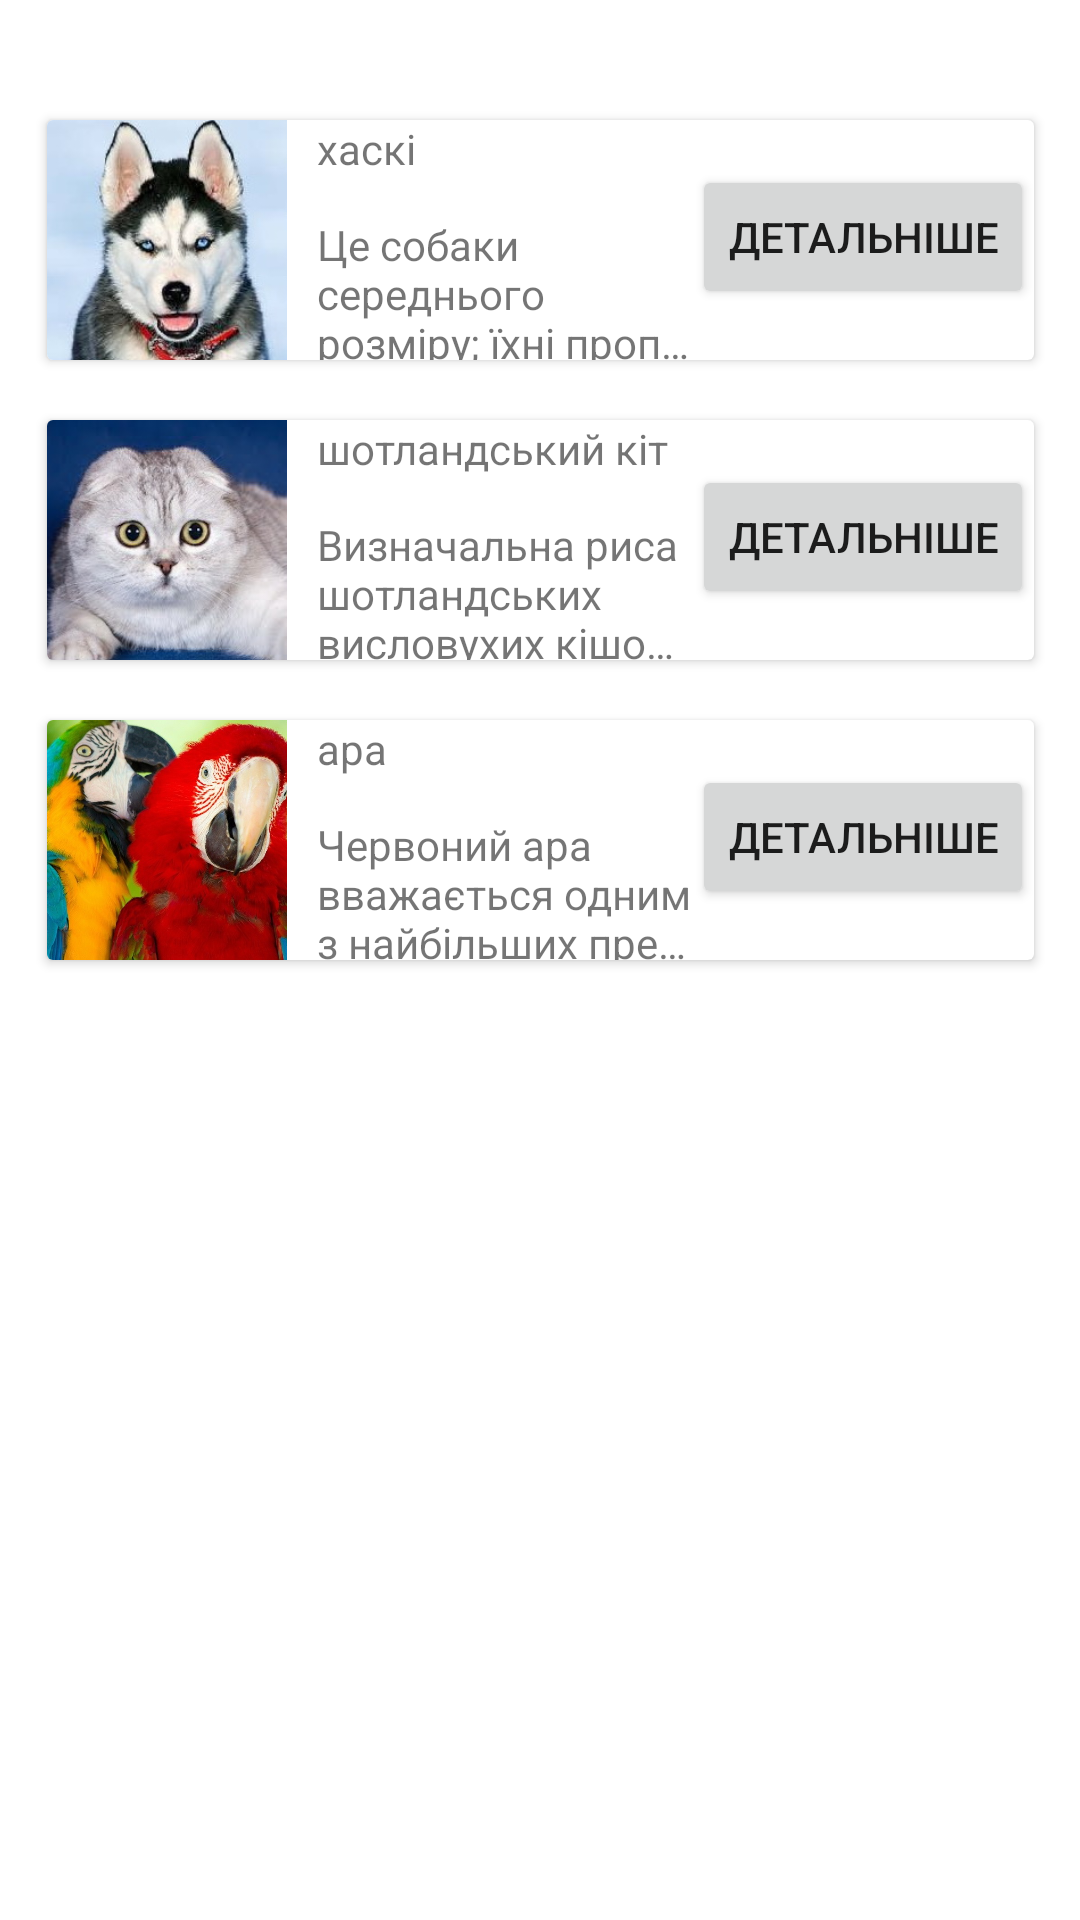

Named icons in this screenshot (1080px×1920px) and their bounding boxes, (x1, y1, x2, y2):
cat: (47, 420, 287, 660)
dog: (47, 120, 287, 360)
